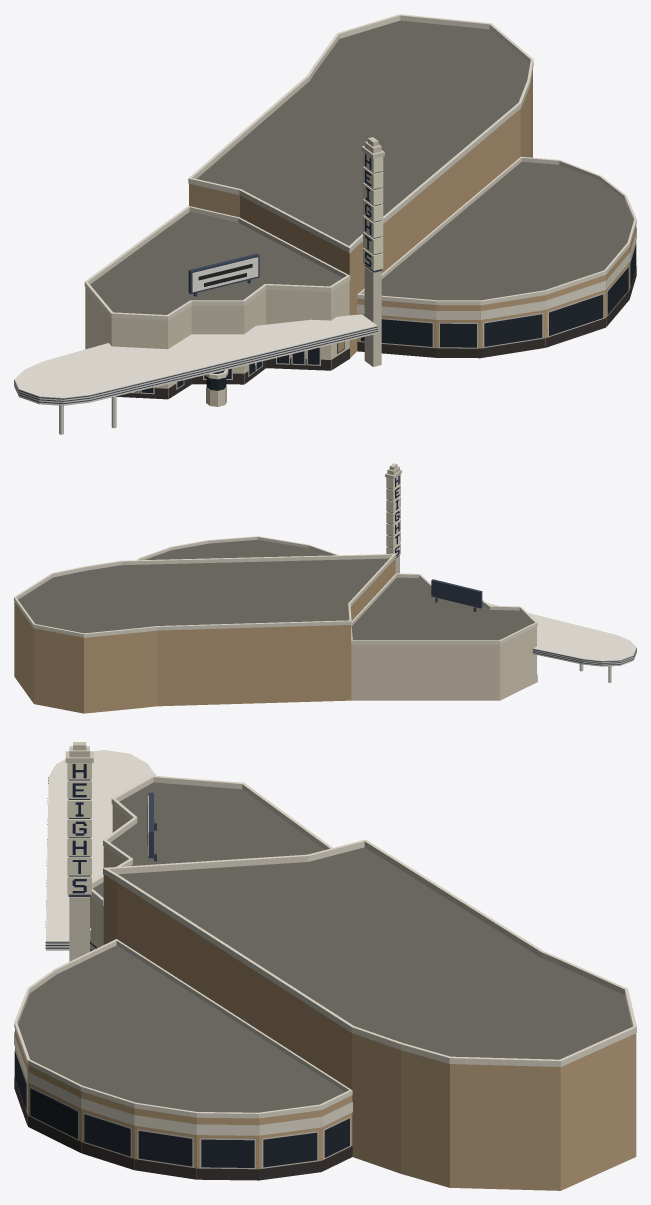
Rendered from heights-theatre-1961.glb.
3 renders of one model, top to bottom at view 1: azimuth 30°, elevation 25°; view 2: azimuth 150°, elevation 25°; view 3: azimuth 270°, elevation 25°, orthographic. The views are drawn at different scales.
Parts seen in each view (by area): view 1: heights_roof, heights_brick, heights_trim, heights_canopy, heights_tile, heights_glass, heights_base, heights_band, heights_panel, heights_pylon, heights_sash, heights_board; view 2: heights_roof, heights_brick, heights_tile, heights_trim, heights_canopy, heights_band, heights_panel; view 3: heights_roof, heights_brick, heights_trim, heights_glass, heights_canopy, heights_base, heights_panel, heights_sash, heights_pylon, heights_tile, heights_band, heights_letters.
Boxes of the visible parts, box(x1,y1,x2,y2) form: heights_roof: box(90, 20, 633, 314); heights_brick: box(189, 70, 636, 357); heights_trim: box(84, 14, 636, 379); heights_canopy: box(14, 314, 377, 405); heights_tile: box(85, 280, 349, 406); heights_glass: box(134, 244, 636, 393); heights_base: box(116, 266, 636, 399); heights_band: box(14, 167, 381, 403); heights_panel: box(363, 152, 383, 270); heights_pylon: box(361, 137, 384, 366); heights_sash: box(131, 242, 636, 394); heights_board: box(192, 257, 258, 292); heights_roof: box(18, 539, 532, 640); heights_brick: box(14, 558, 395, 713); heights_tile: box(351, 626, 536, 700); heights_trim: box(14, 536, 537, 644); heights_canopy: box(487, 603, 636, 666); heights_band: box(387, 485, 636, 665); heights_panel: box(386, 474, 400, 557); heights_roof: box(18, 782, 631, 1112); heights_brick: box(15, 875, 636, 1190); heights_trim: box(14, 775, 636, 1135); heights_glass: box(14, 1051, 349, 1167); heights_canopy: box(46, 750, 155, 950); heights_base: box(14, 1078, 352, 1180); heights_panel: box(67, 763, 91, 894); heights_sash: box(15, 1049, 350, 1169); heights_pylon: box(65, 742, 93, 961); heights_tile: box(90, 805, 129, 951); heights_band: box(45, 777, 156, 950); heights_letters: box(72, 764, 86, 893).
Size of the model in its own units: 62.13 by 19.85 by 42.74.
